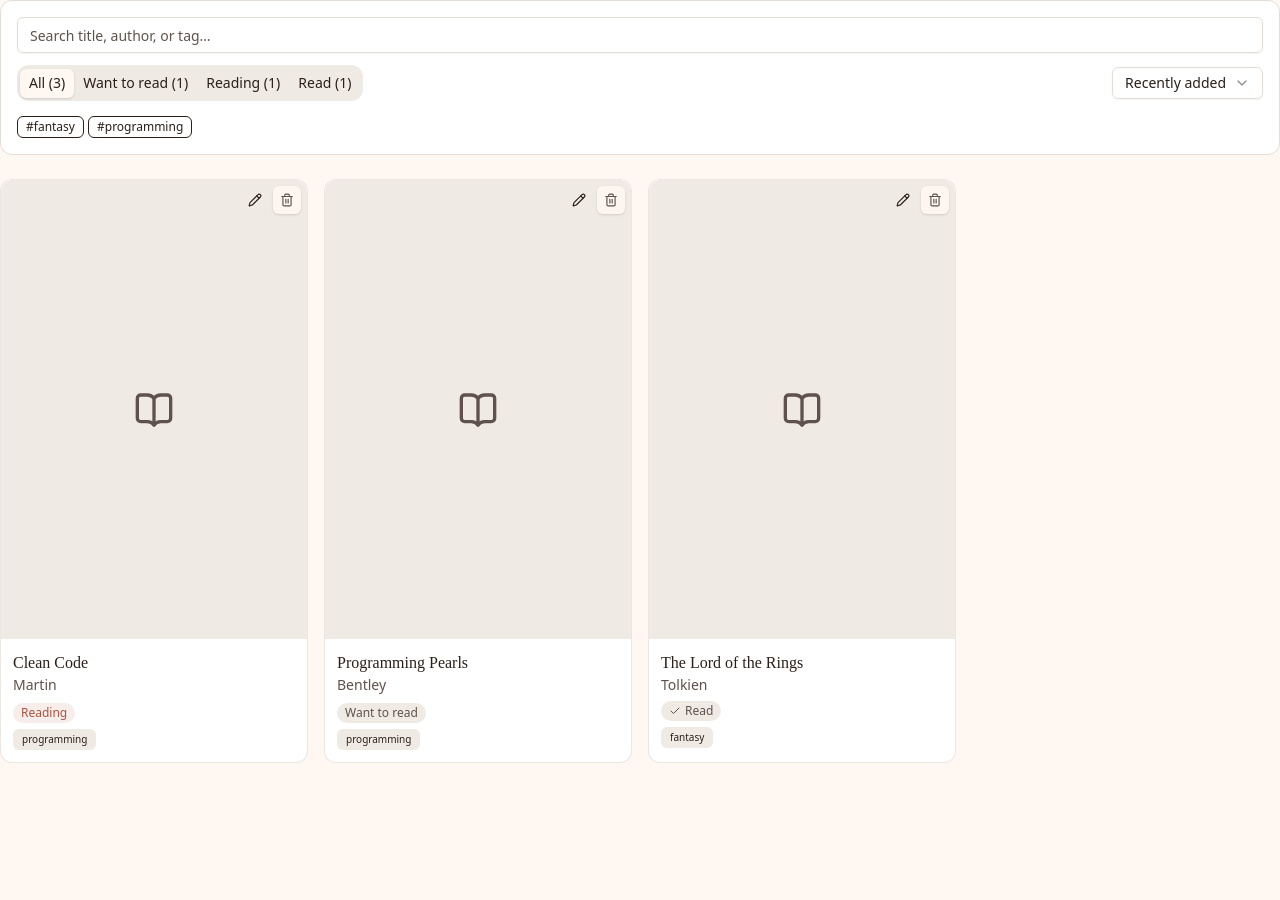
Test case: ShelfList › filter-aware tab counts (spec 011) › with tags selected, tab counts reflect tag filter applied to each tab
The image size is (1280, 900).
# "programming" tag → 2 books (want, reading).
Click the checkbox with test id "shelf-tag-programming": (140, 126) [88, 113, 192, 138]
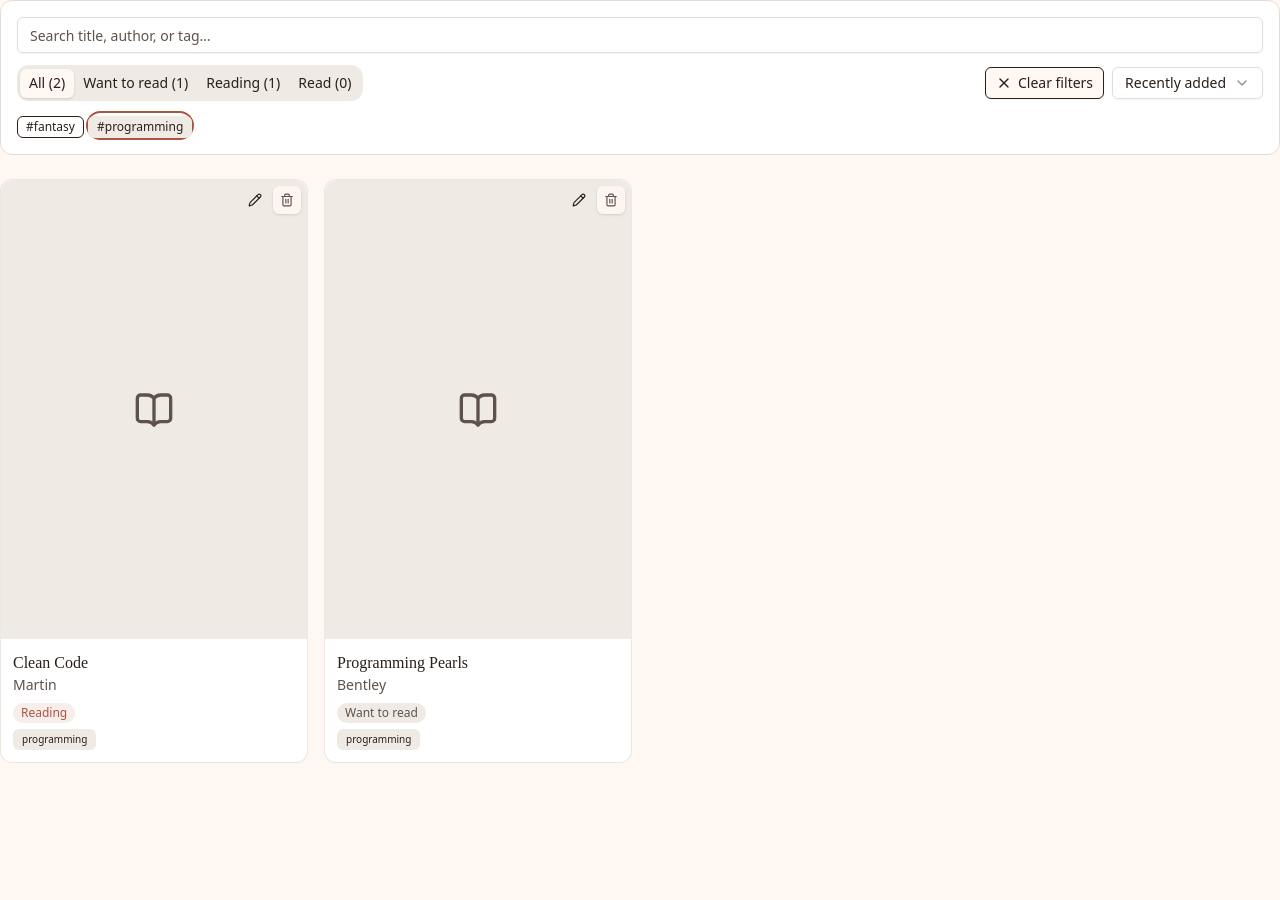
expect the tab "Want to read (1)" is shown: met, box [74, 68, 197, 98]
expect the tab "All (2)" is shown: met, box [20, 68, 74, 98]
expect the tab "Read (0)" is shown: met, box [289, 68, 360, 98]
